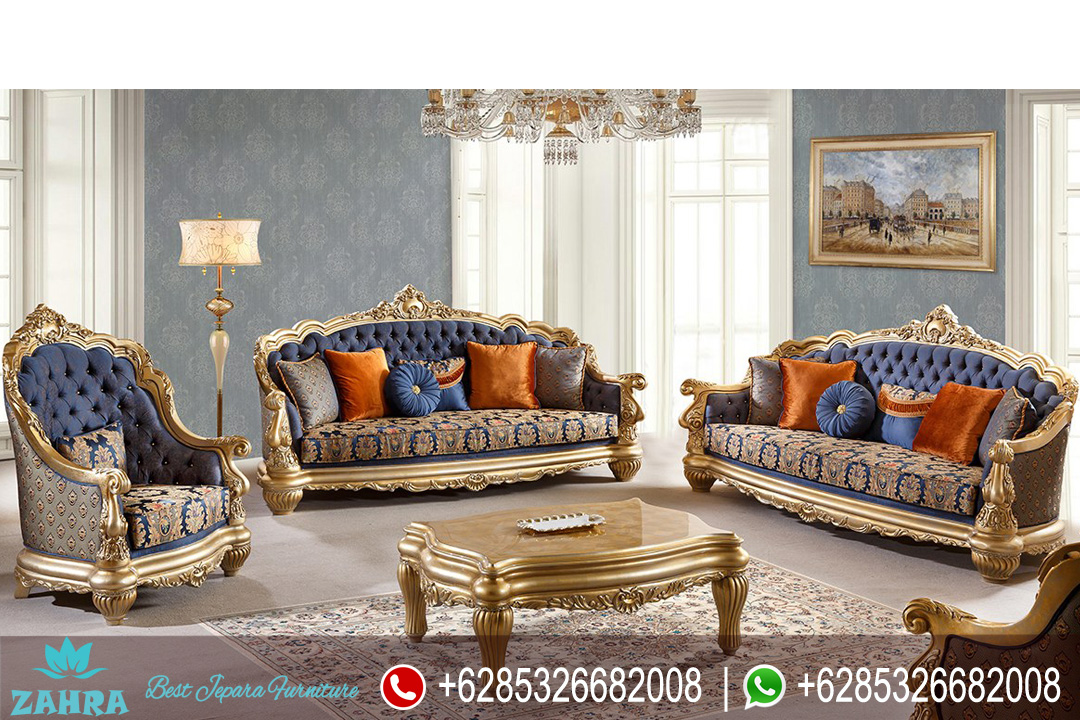Carving Chair: (685, 305, 1076, 564), (254, 301, 646, 495), (20, 316, 259, 608)
Carving Table: (376, 498, 756, 665)
